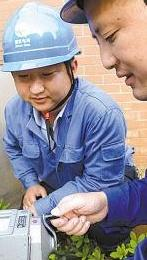hard-hat: (0, 0, 79, 72)
vest: (2, 76, 136, 215)
